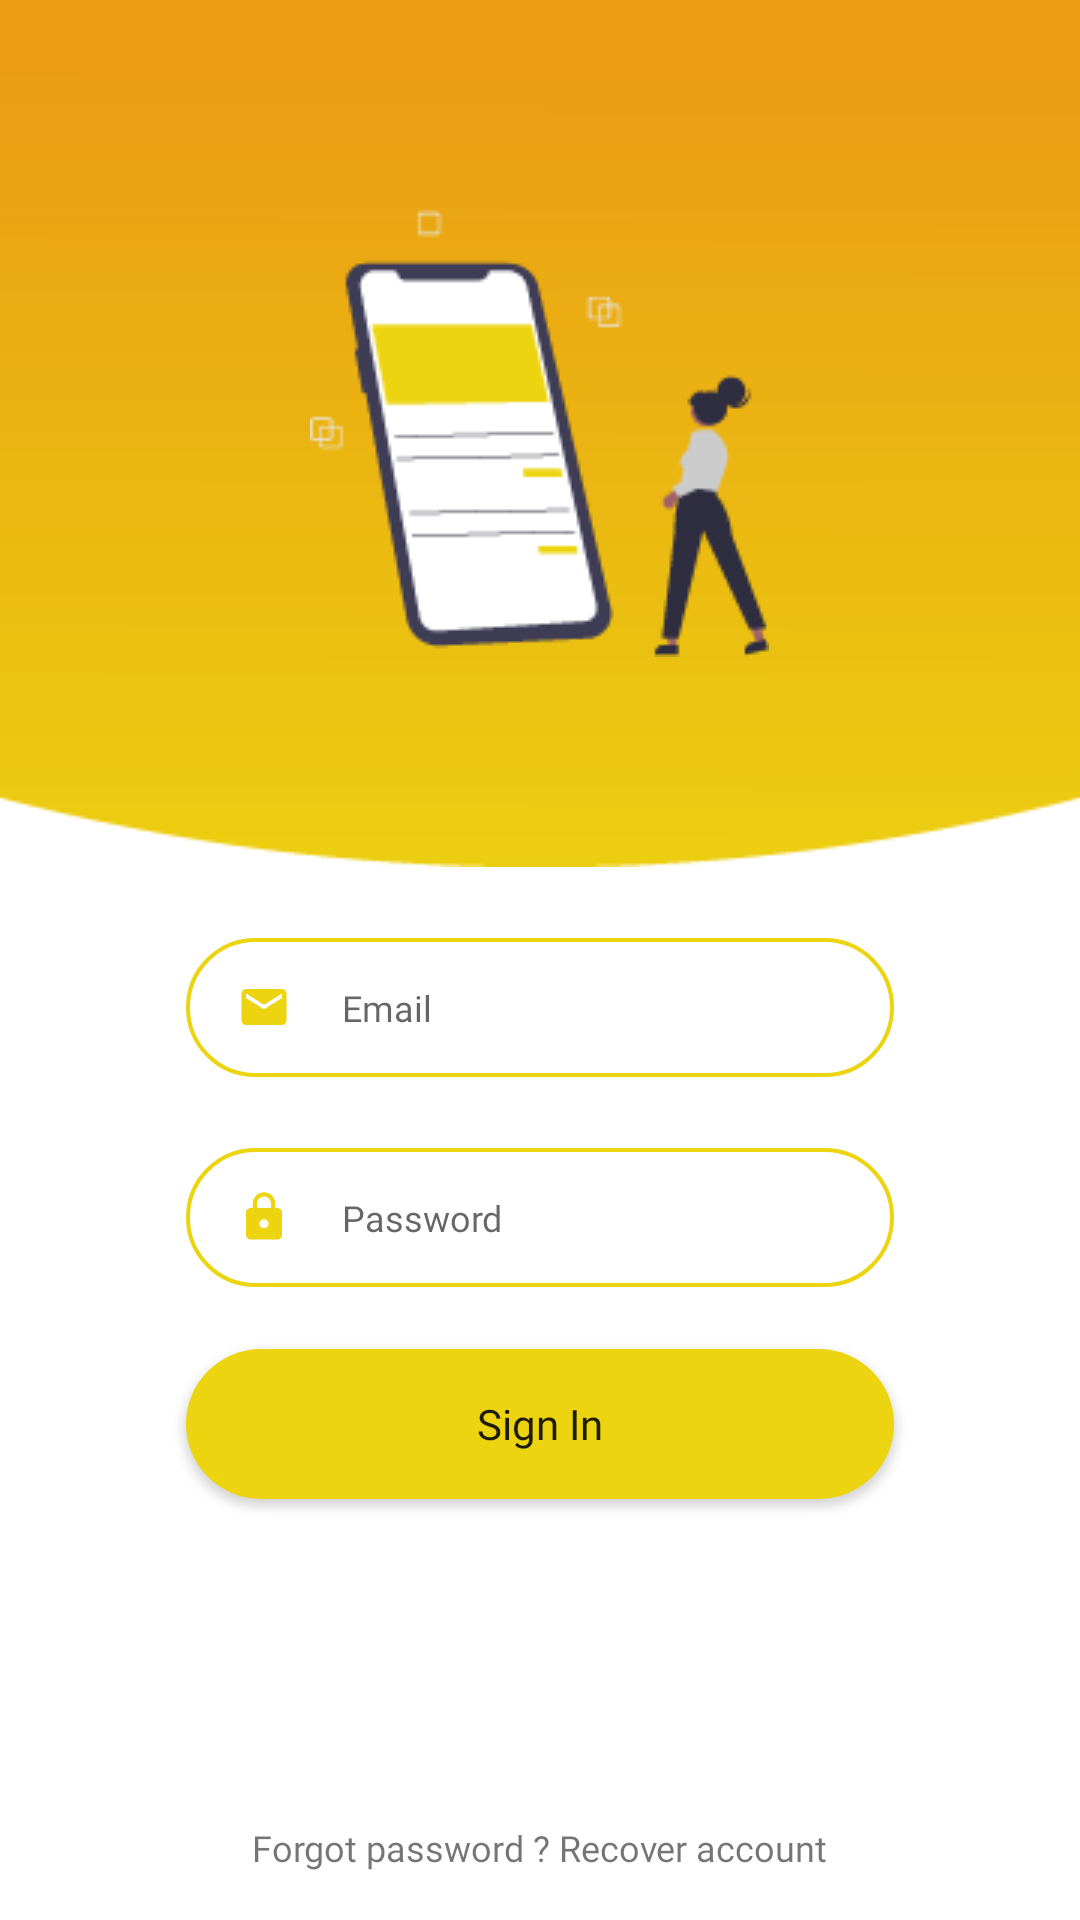

Icons on this 1080w x 1920h Android screen, each with its box as (left=x1, top=y1, right=x2, bottom=y2):
lock: (left=246, top=1192, right=282, bottom=1240)
